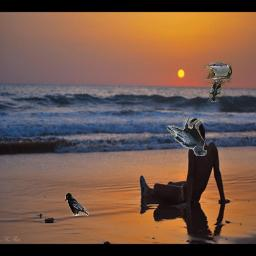Crow: (167, 117, 207, 156), (65, 192, 89, 216)
Cuckoo: (203, 62, 232, 102)
